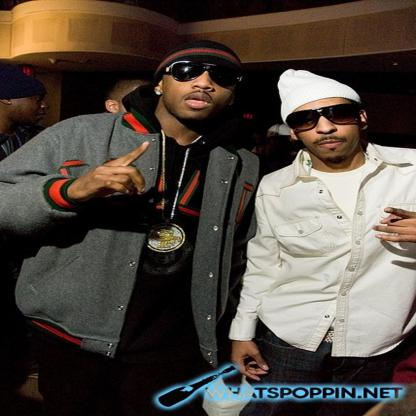face: (291, 100, 364, 162), (168, 61, 235, 123), (13, 75, 50, 121)
